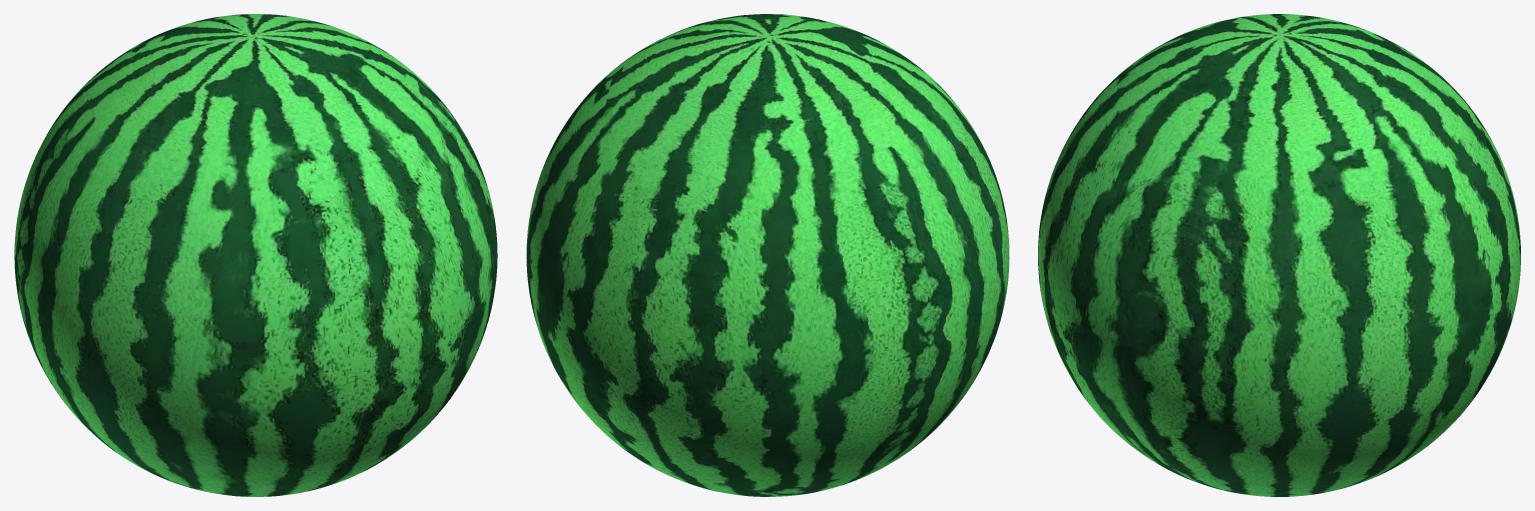
Rendered from Meshy_AI_Watermelon_0514185047_texture-compressed.glb.
3 renders of one model, left to right at view 1: azimuth 30°, elevation 25°; view 2: azimuth 150°, elevation 25°; view 3: azimuth 270°, elevation 25°, orthographic.
Visible parts, largest first — view 1: mesh_0; view 2: mesh_0; view 3: mesh_0.
Boxes of the visible parts, x1,y1,x2,y2 form: mesh_0: (14, 14, 497, 496); mesh_0: (526, 14, 1009, 496); mesh_0: (1038, 14, 1520, 496).
Bounding box in the file's own units: 1.89 × 1.9 × 1.89.
1 material, 1 textured.
